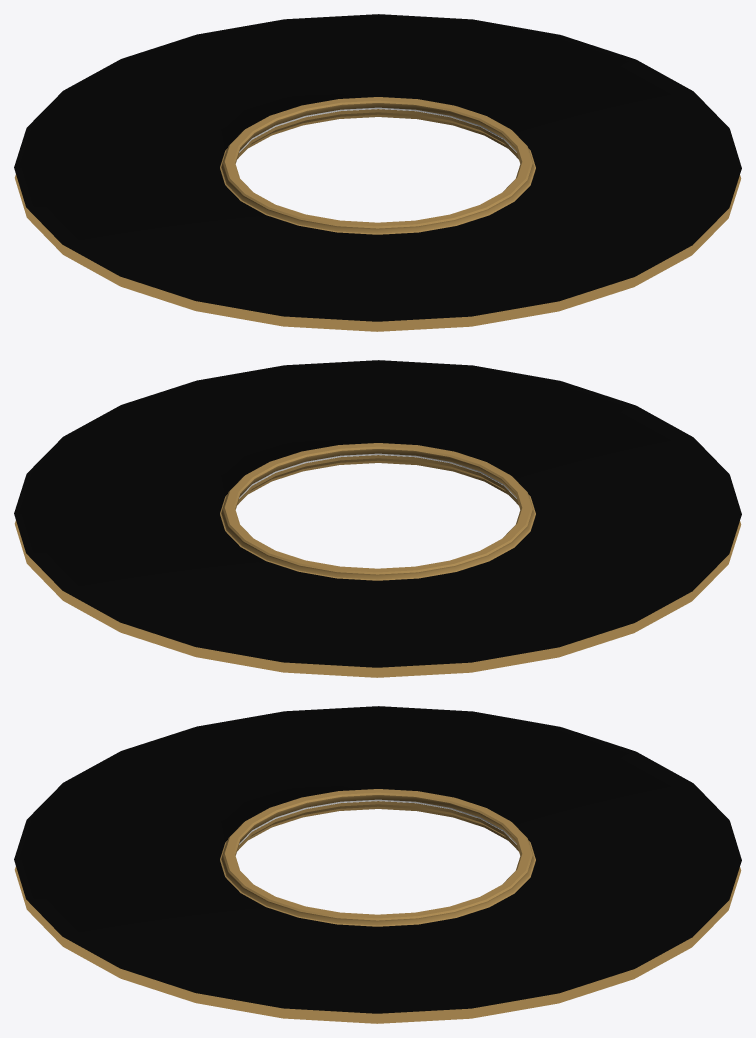
The model's file is TowerFloor.fbx.
The picture shows the model from 3 angles, top to bottom: view 1: azimuth 30°, elevation 25°; view 2: azimuth 150°, elevation 25°; view 3: azimuth 270°, elevation 25°; orthographic projection.
Visible parts, largest first — view 1: Circle.010; view 2: Circle.010; view 3: Circle.010.
Boxes of the visible parts, x1,y1,x2,y2 form: Circle.010: (14, 14, 741, 331); Circle.010: (14, 360, 741, 677); Circle.010: (14, 706, 741, 1023).
Bounding box in the file's own units: 9362 × 268 × 9362.
